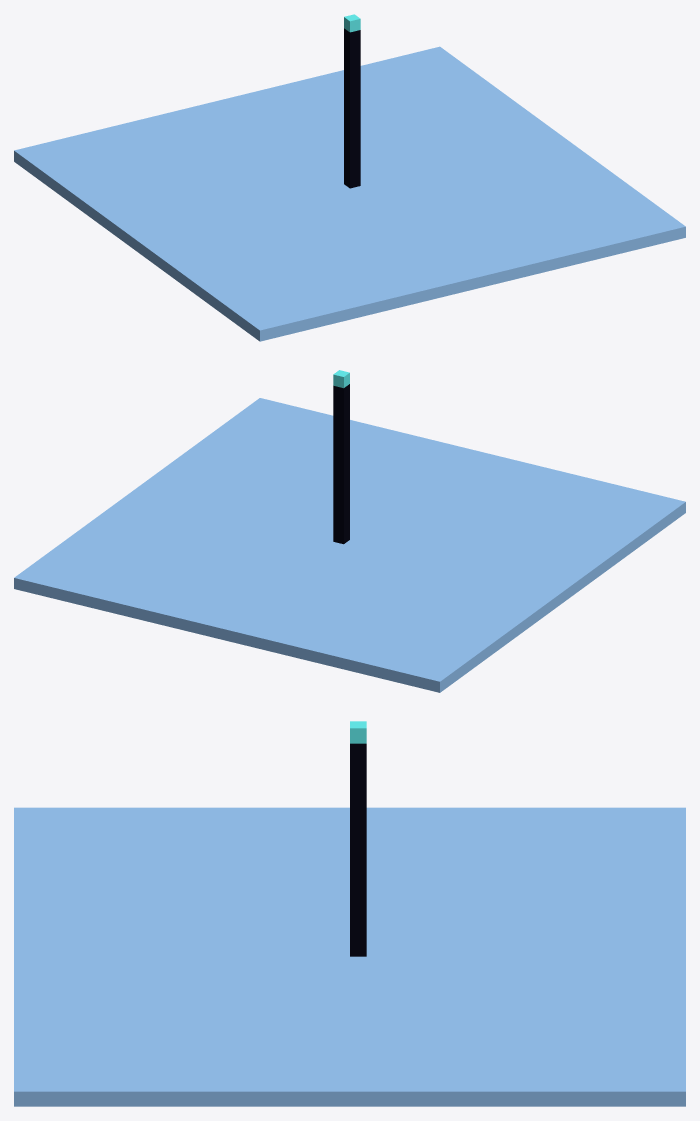
3 views of the same model, one above another, from view 1: azimuth 30°, elevation 25°; view 2: azimuth 150°, elevation 25°; view 3: azimuth 270°, elevation 25° (orthographic). The views are drawn at different scales.
Visible parts, largest first — view 1: test; view 2: test; view 3: test.
Part boxes in pixels (left/top/right/bottom): test: left=14, top=14, right=685, bottom=341; test: left=14, top=370, right=685, bottom=692; test: left=14, top=721, right=685, bottom=1106.
Bounding box in the file's own units: 4 × 1.6 × 4.
Materials: 1 (1 with a texture image).
